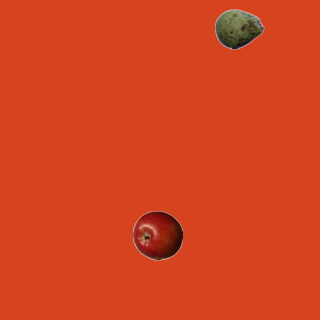Apple Braeburn: (132, 210, 182, 260)
Pear Stone: (214, 4, 264, 54)
